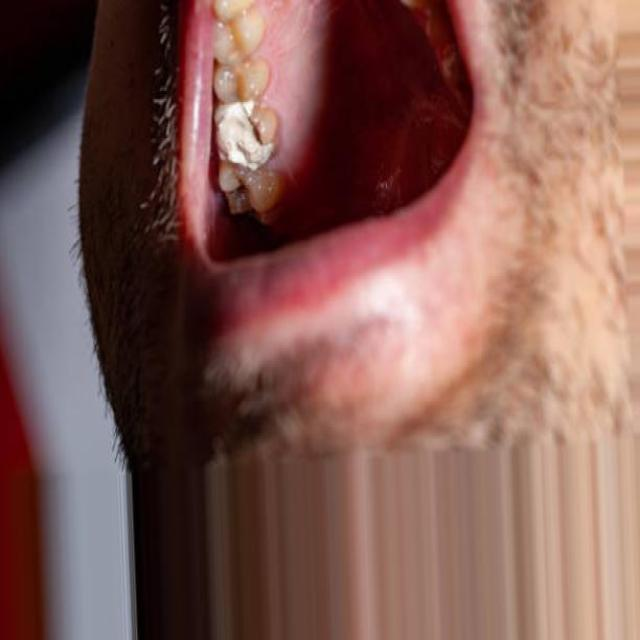caries: (215, 96, 274, 178)
